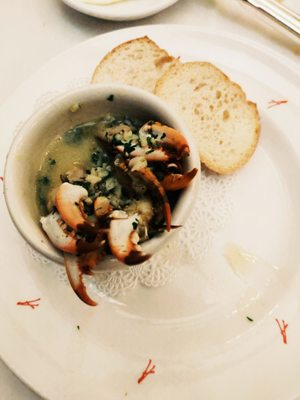sushi: (2, 84, 201, 274)
